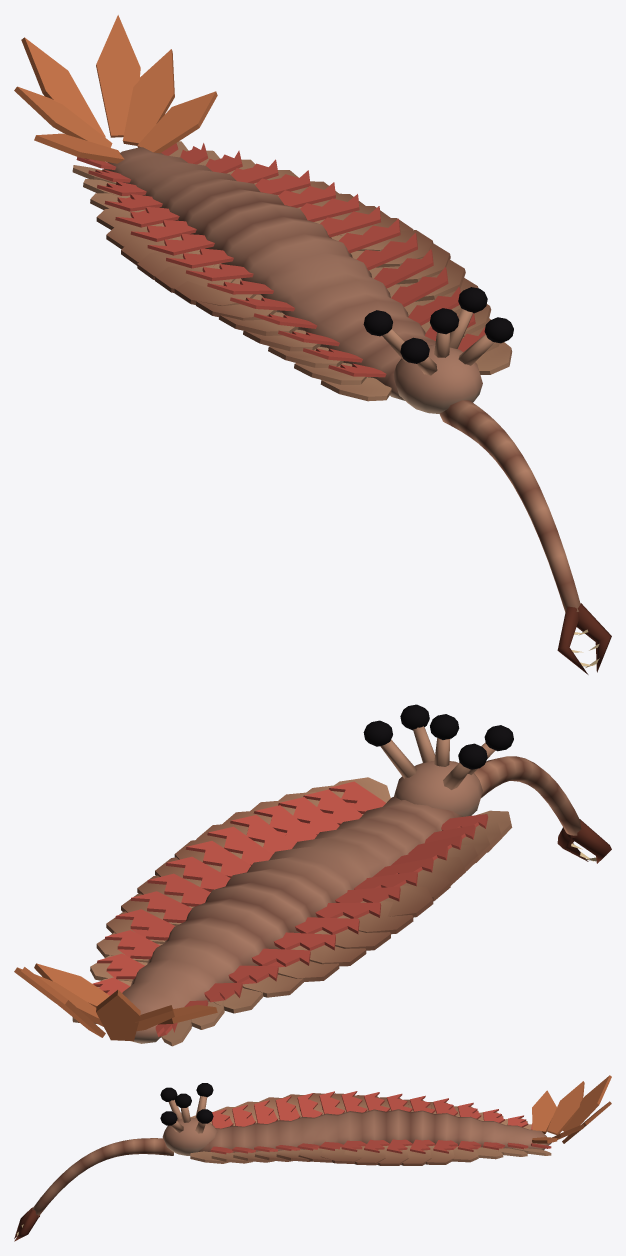
The model's file is Opabinia.fbx.
The picture shows the model from 3 angles, top to bottom: view 1: azimuth 30°, elevation 25°; view 2: azimuth 150°, elevation 25°; view 3: azimuth 270°, elevation 25°; orthographic projection. The views are drawn at different scales.
Visible parts, largest first — view 1: Opabinia; view 2: Opabinia; view 3: Opabinia.
Part boxes in pixels (x1,y1,x2,y2): Opabinia: (14, 15, 611, 674); Opabinia: (14, 704, 611, 1046); Opabinia: (14, 1075, 611, 1241).
Size of the model in its own units: 0.483 by 0.5071 by 1.8.
